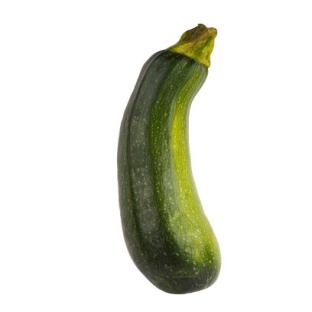Zucchini: (118, 24, 220, 293)
